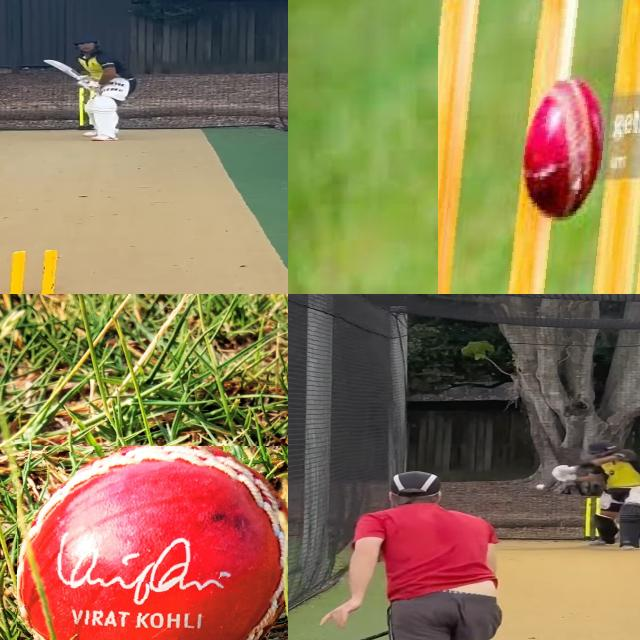Cricket ball: (17, 446, 288, 640), (541, 75, 637, 237), (534, 484, 547, 491)
Stumps: (438, 0, 640, 294), (0, 249, 71, 294), (80, 87, 99, 130)
